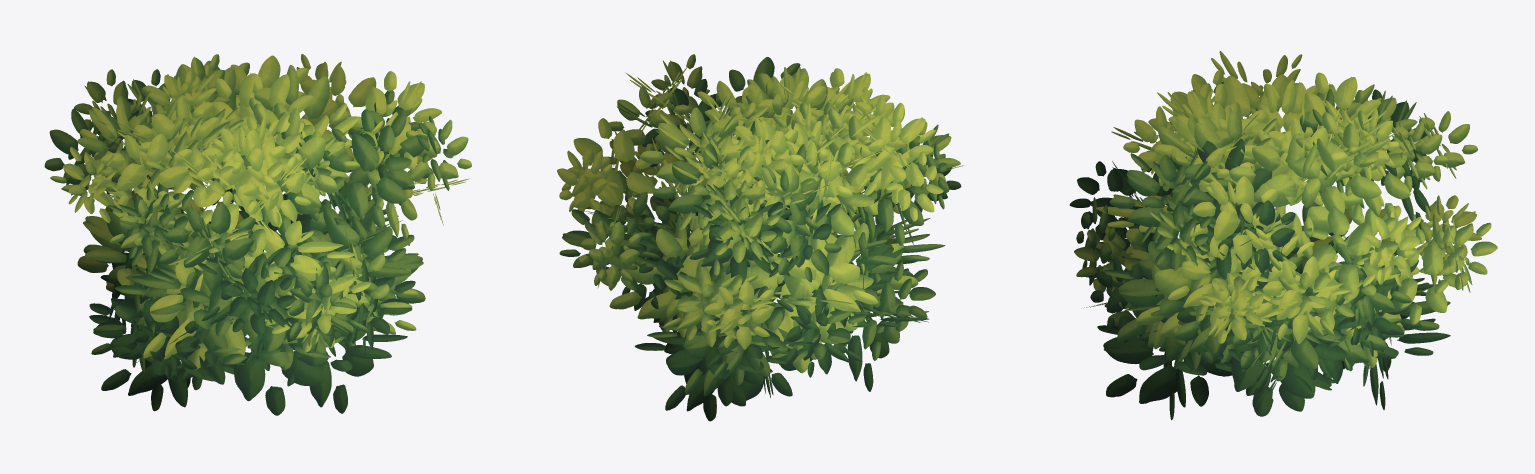
Rendered from bush_a.glb.
The picture shows the model from 3 angles, left to right: view 1: azimuth 30°, elevation 25°; view 2: azimuth 150°, elevation 25°; view 3: azimuth 270°, elevation 25°; orthographic projection. The views are drawn at different scales.
Visible parts, largest first — view 1: bush_a; view 2: bush_a; view 3: bush_a.
Part boxes in pixels (box(x1,y1,x2,y2)): bush_a: box(44, 54, 471, 415); bush_a: box(557, 54, 964, 421); bush_a: box(1069, 51, 1497, 420).
Size of the model in its own units: 1.05 by 0.9 by 1.07.
Materials: 1 (1 with a texture image).
